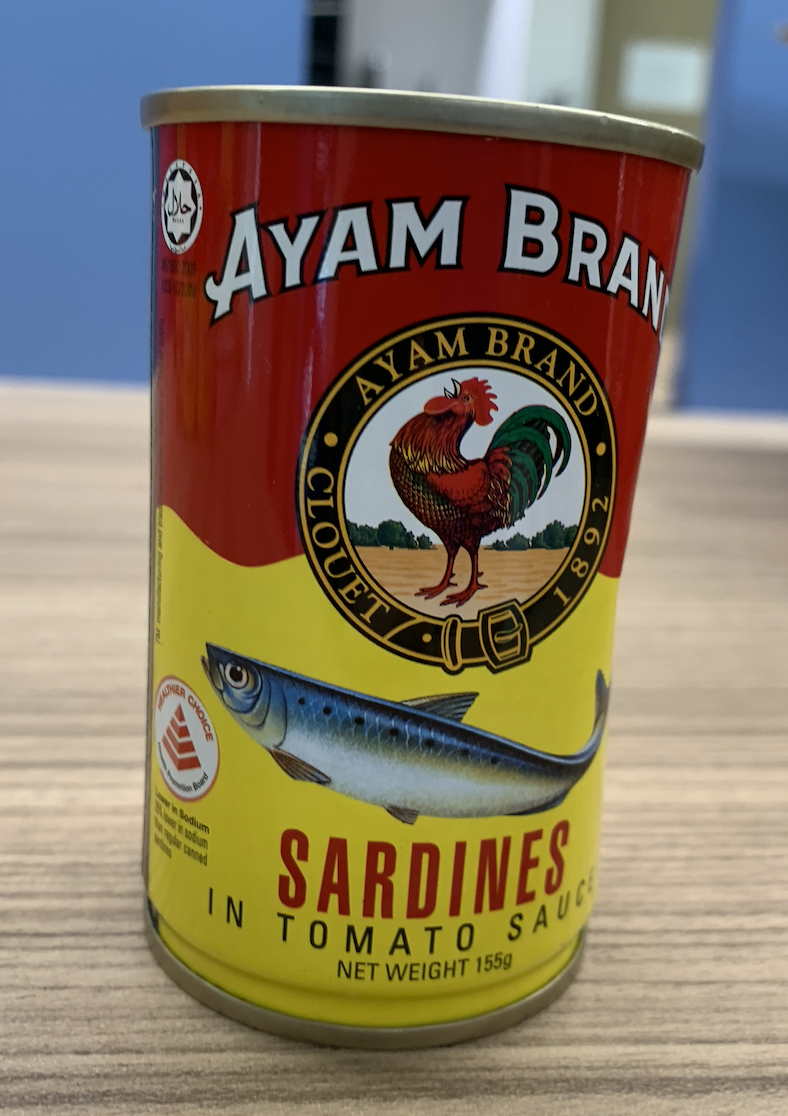sardines_100g-199g: (166, 145, 580, 984)
